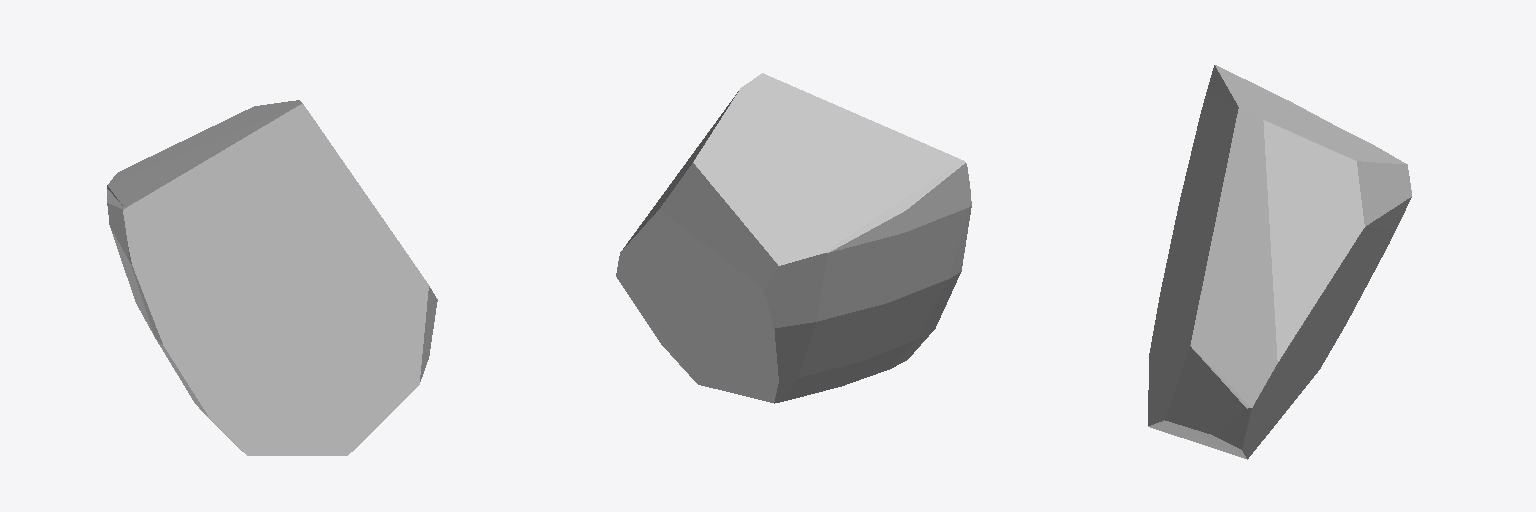
File: Sphere_Cell_Fracture50.obj
3 views of the same model, side by side, from view 1: azimuth 30°, elevation 25°; view 2: azimuth 150°, elevation 25°; view 3: azimuth 270°, elevation 25° (orthographic).
Bounding box in the file's own units: 0.8262 × 0.7683 × 0.5707.